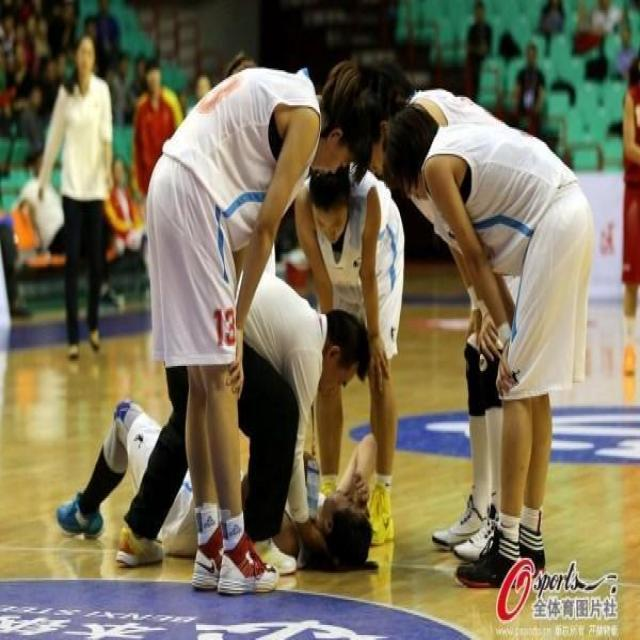fall: (44, 396, 388, 576)
